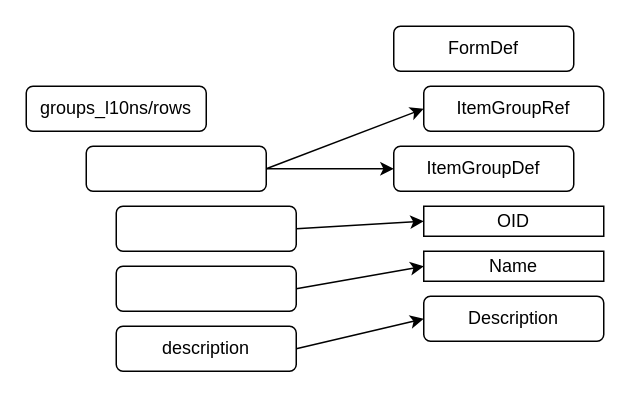
Image size: 630x398. Some labels were removed from this diagram. The shapes that lost their labels are listed below. From the top down, each one's centre as x and y in pixels, then its label:
At (175,168): "row".
At (205,228): "gid".
At (205,288): "group_name".
